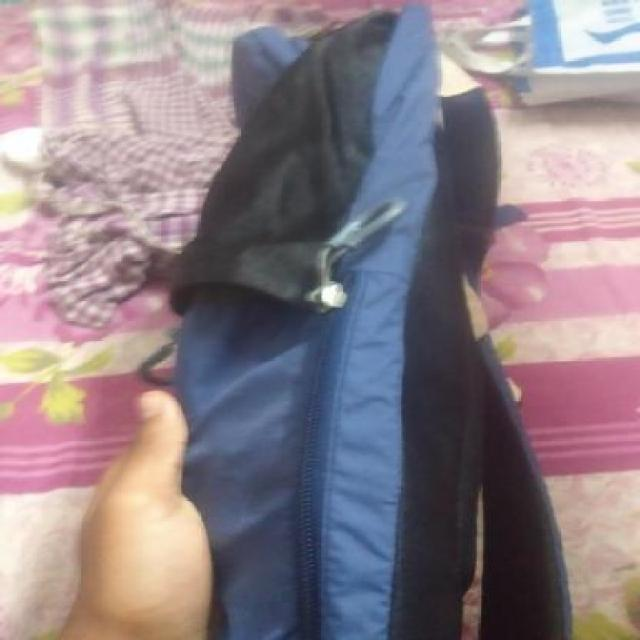backpack: (163, 0, 571, 640)
